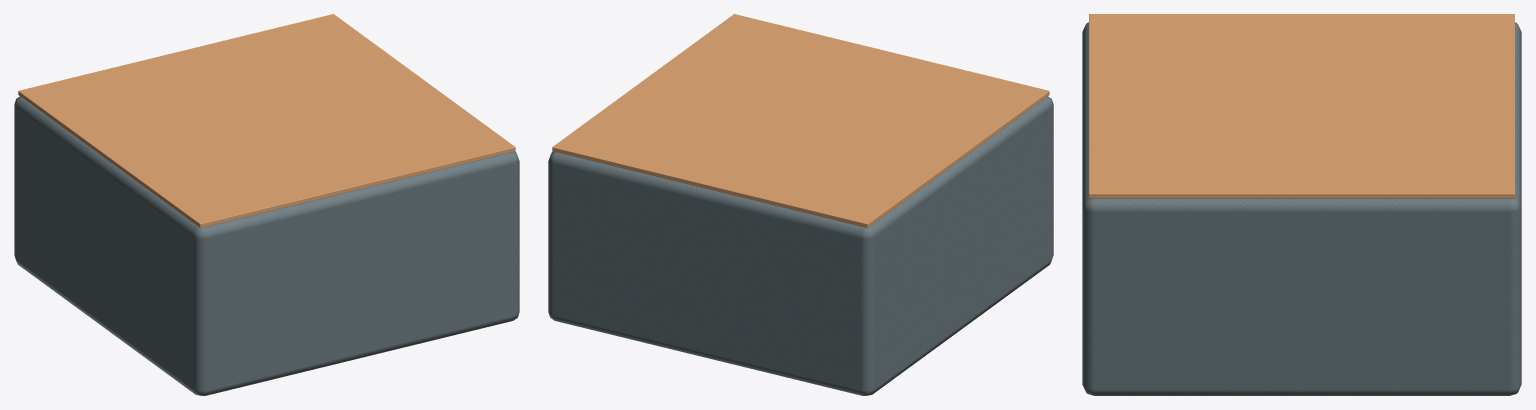
File: dwarven-runeforge-dungeon-dwarven-runeforge-dungeon-la-9e6f177c__28578.glb
The picture shows the model from 3 angles, left to right: view 1: azimuth 30°, elevation 25°; view 2: azimuth 150°, elevation 25°; view 3: azimuth 270°, elevation 25°; orthographic projection. The views are drawn at different scales.
Parts seen in each view (by area): view 1: dwarven-runeforge-dungeon-landing; view 2: dwarven-runeforge-dungeon-landing; view 3: dwarven-runeforge-dungeon-landing.
Boxes of the visible parts, x1,y1,x2,y2 form: dwarven-runeforge-dungeon-landing: [14, 14, 519, 395]; dwarven-runeforge-dungeon-landing: [548, 14, 1053, 395]; dwarven-runeforge-dungeon-landing: [1082, 14, 1521, 395].
Bounding box in the file's own units: 2 × 1.03 × 2.
Materials: 2 (1 with a texture image).
